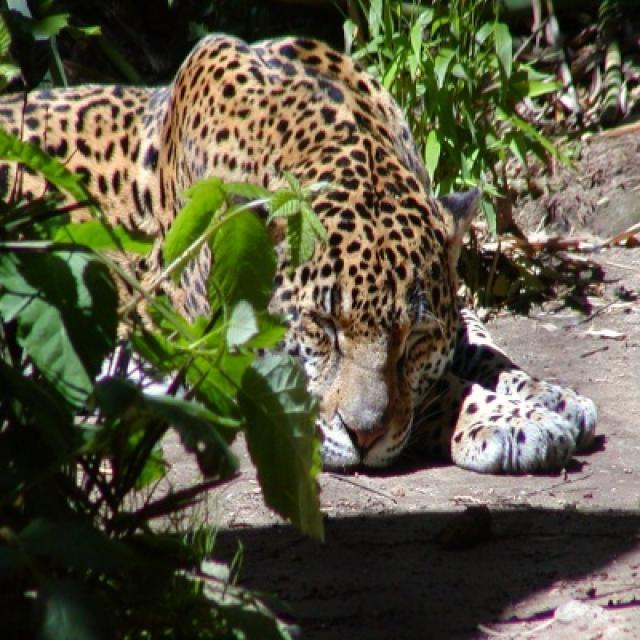Jaguar: (0, 34, 603, 477)
